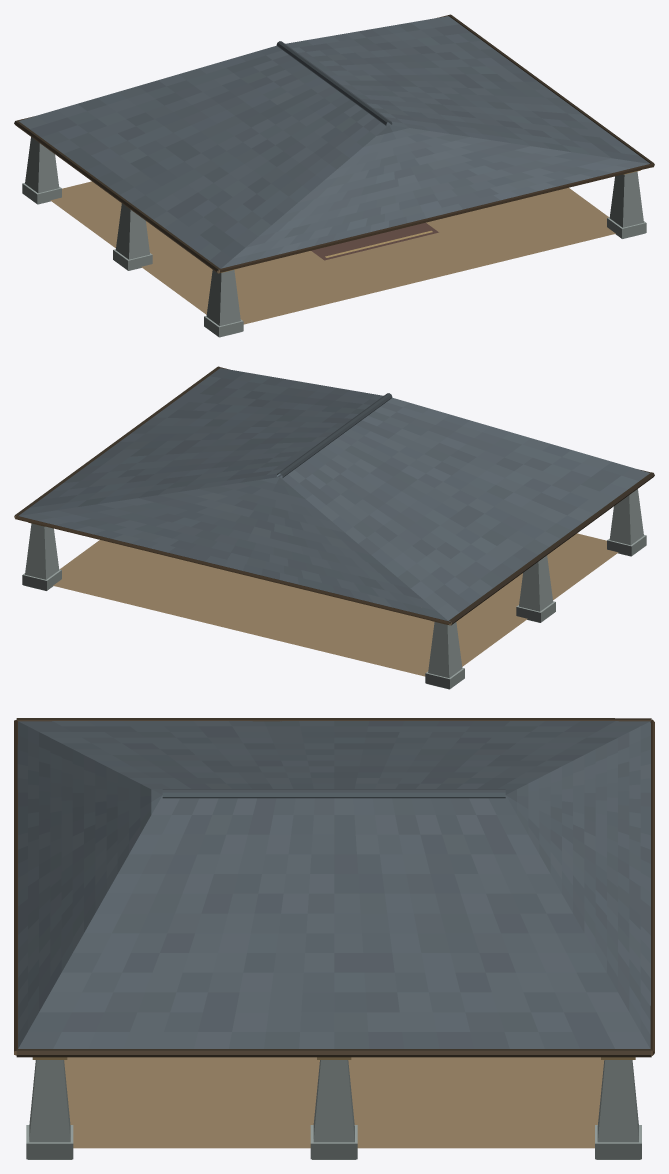
3 views of the same model, one above another, from view 1: azimuth 30°, elevation 25°; view 2: azimuth 150°, elevation 25°; view 3: azimuth 270°, elevation 25° (orthographic). The views are drawn at different scales.
Visible parts, largest first — view 1: 994fdea89277c7d6d95e19b33d9c793436e8776dcb3cdb1618887ad34484; view 2: 994fdea89277c7d6d95e19b33d9c793436e8776dcb3cdb1618887ad34484; view 3: 994fdea89277c7d6d95e19b33d9c793436e8776dcb3cdb1618887ad34484.
Boxes of the visible parts, x1=… form: 994fdea89277c7d6d95e19b33d9c793436e8776dcb3cdb1618887ad34484: x1=14, y1=14, x2=654, y2=337; 994fdea89277c7d6d95e19b33d9c793436e8776dcb3cdb1618887ad34484: x1=14, y1=366, x2=654, y2=689; 994fdea89277c7d6d95e19b33d9c793436e8776dcb3cdb1618887ad34484: x1=14, y1=718, x2=654, y2=1159.
Bounding box in the file's own units: 16.02 × 4.64 × 12.97.
Materials: 6 (1 with a texture image).
